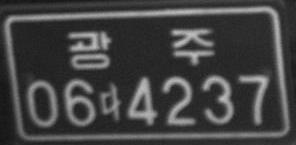0: (25, 77, 60, 129)
2: (160, 74, 198, 128)
3: (199, 72, 236, 127)
4: (124, 74, 159, 127)
6: (62, 77, 98, 128)
7: (236, 72, 271, 127)
광주_D: (64, 26, 218, 70)
다: (98, 80, 123, 123)
